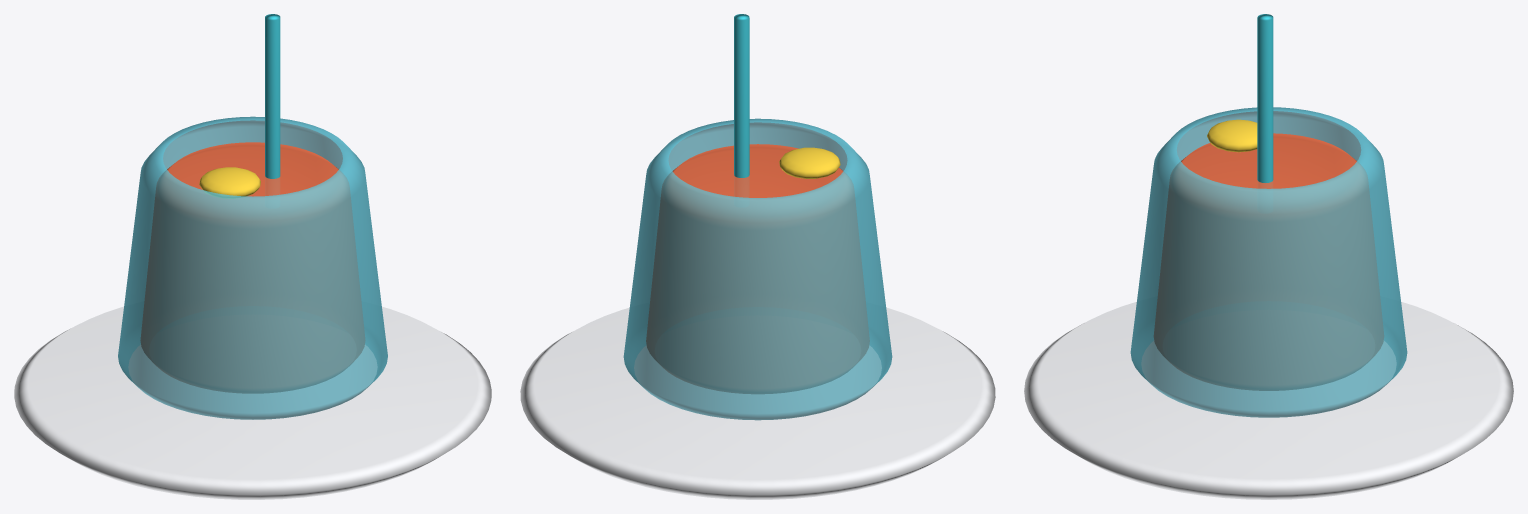
Rendered from drink.glb.
3 renders of one model, left to right at view 1: azimuth 30°, elevation 25°; view 2: azimuth 150°, elevation 25°; view 3: azimuth 270°, elevation 25°, orthographic. The views are drawn at different scales.
Parts seen in each view (by area): view 1: glass, saucer, juice, straw, citrus; view 2: glass, saucer, juice, straw, citrus; view 3: glass, saucer, juice, straw, citrus.
Part boxes in pixels (box(x1,y1,x2,y2)): glass: box(118, 116, 387, 419); saucer: box(14, 306, 491, 499); juice: box(140, 142, 365, 393); straw: box(265, 14, 280, 178); citrus: box(199, 167, 260, 198); glass: box(623, 118, 892, 420); saucer: box(520, 307, 995, 499); juice: box(646, 144, 869, 393); straw: box(734, 14, 749, 195); citrus: box(779, 147, 840, 178); glass: box(1130, 107, 1407, 417); saucer: box(1024, 301, 1513, 499); juice: box(1154, 133, 1383, 390); straw: box(1257, 14, 1273, 183); citrus: box(1207, 119, 1257, 152).
Bounding box in the file's own units: 2.76 × 2.46 × 2.76.
